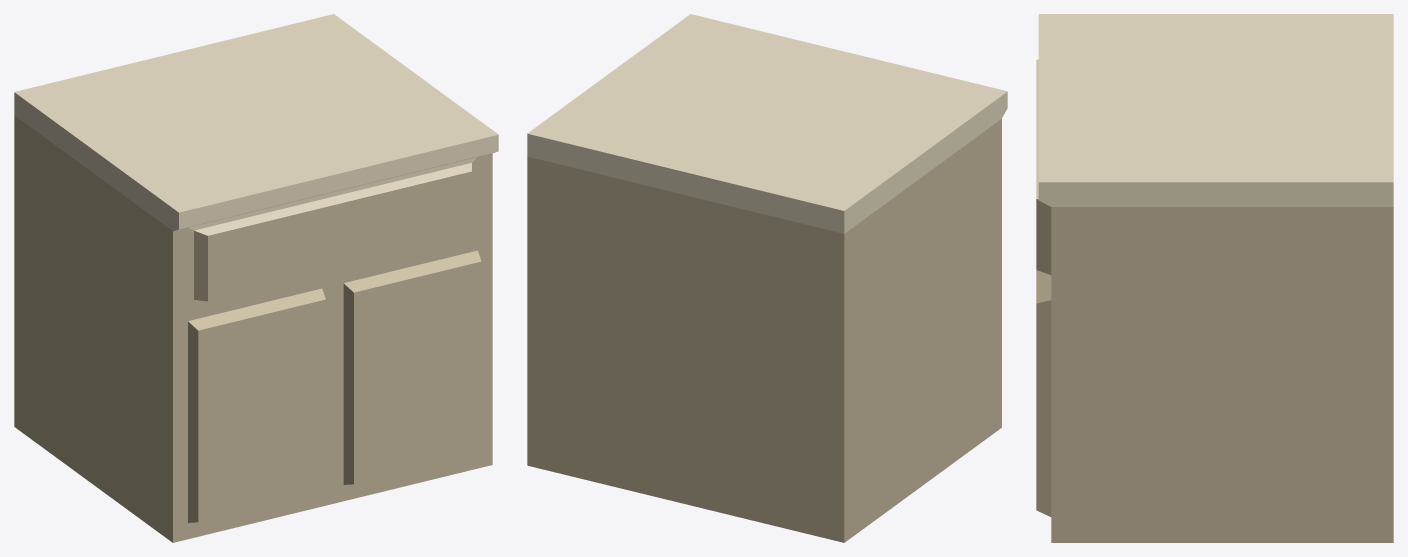
The model's file is Countertop.fbx.
3 renders of one model, left to right at view 1: azimuth 30°, elevation 25°; view 2: azimuth 150°, elevation 25°; view 3: azimuth 270°, elevation 25°, orthographic. The views are drawn at different scales.
Parts seen in each view (by area): view 1: Counter; view 2: Counter; view 3: Counter.
Boxes of the visible parts, bbox=[...] form: Counter: bbox=[14, 14, 498, 542]; Counter: bbox=[527, 14, 1007, 542]; Counter: bbox=[1036, 14, 1393, 542].
Bounding box in the file's own units: 91.2 × 91.2 × 81.93.
